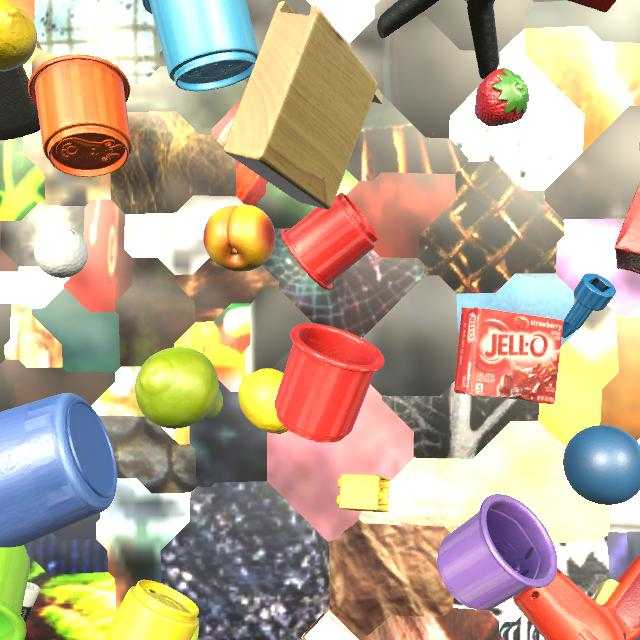ycb_003_cracker_box: (615, 183, 640, 274)
ycb_008_pudding_box: (301, 609, 361, 640)
ycb_009_gelatin_box: (454, 307, 564, 404)
ycb_012_strawberry: (475, 68, 529, 126)
ycb_014_lemon: (238, 368, 289, 434), (0, 0, 37, 72)
ycb_015_peach: (203, 205, 275, 272)
ycb_016_pear: (135, 347, 223, 429)
